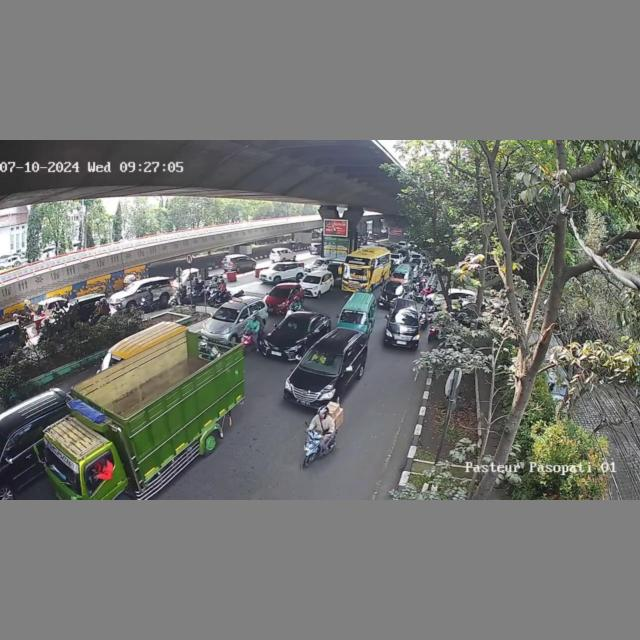windshield: (301, 345, 348, 373), (277, 314, 312, 333), (210, 307, 239, 322), (340, 311, 367, 324), (392, 309, 415, 322), (269, 287, 292, 298)
